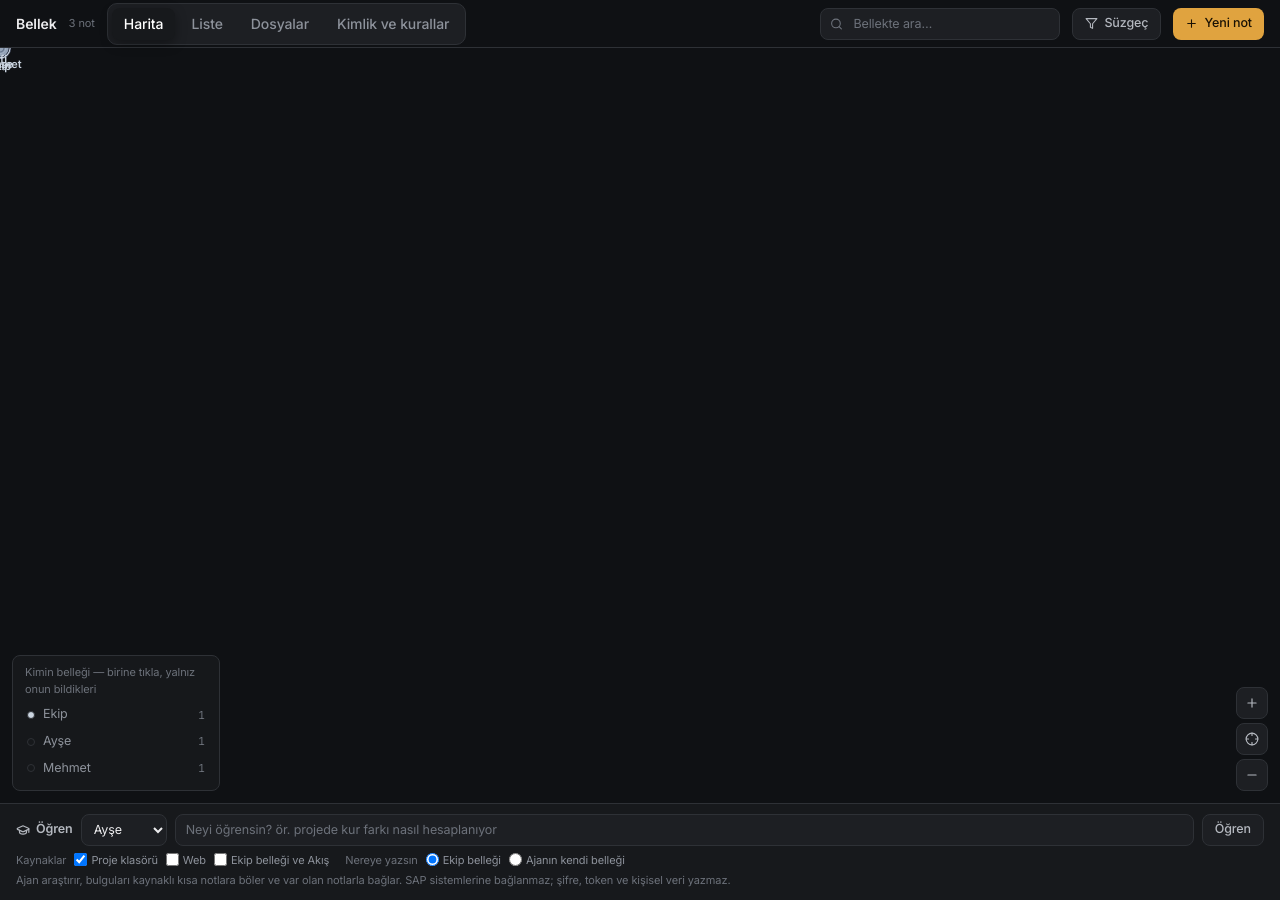
Test: MemoryBrain — harita › arama: sonuç kutusu, sayı, tık notu açar
The width and height of the screenshot is (1280, 900).
Type "onay" into the search field named "Notlarda ara" at (940, 24), box left=820, top=8, right=1060, bottom=40
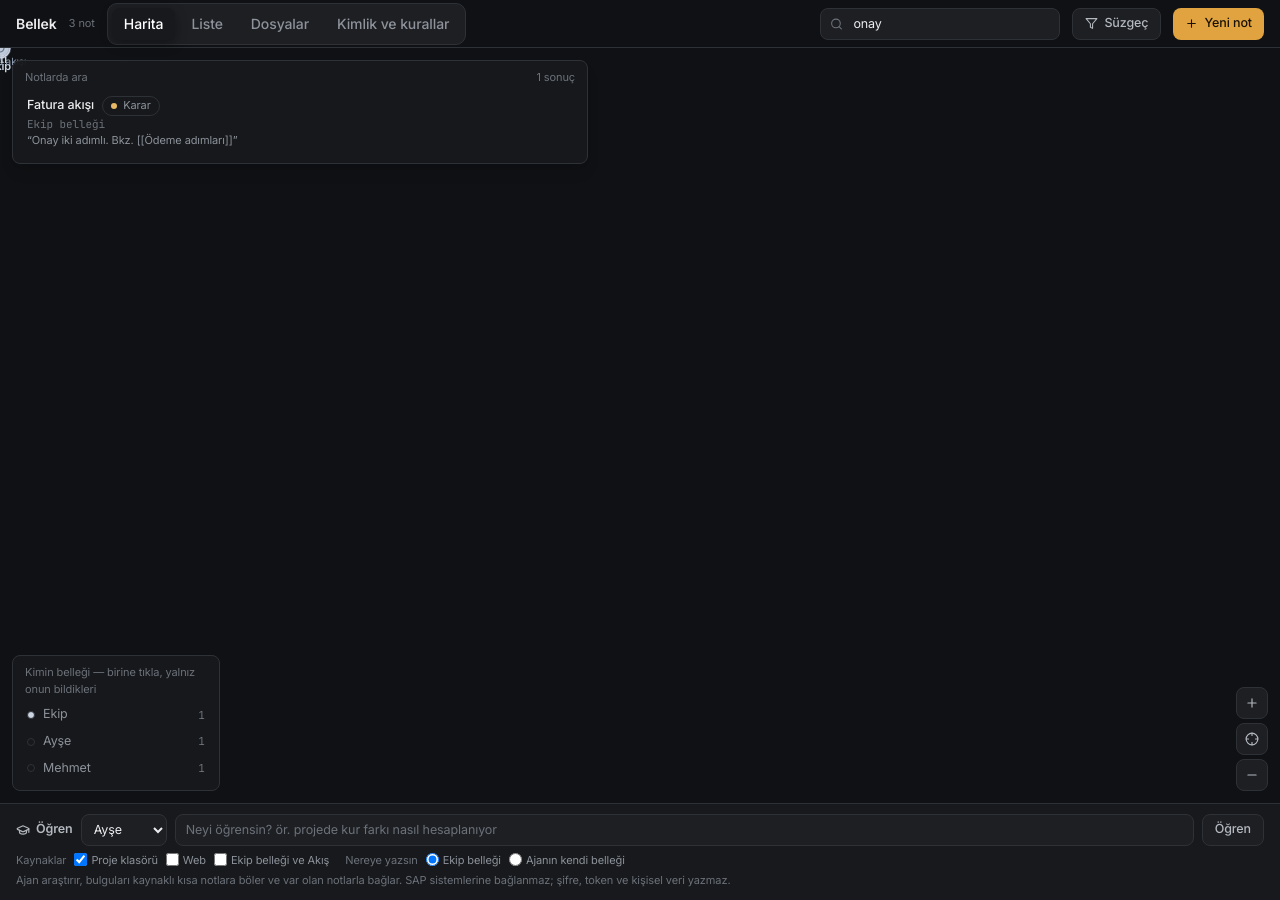
Check: the element "Notlarda ara" shows "1 sonuç", box left=536, top=70, right=575, bottom=84
Click the button "Fatura akışı" at (61, 105), box left=21, top=90, right=579, bottom=154
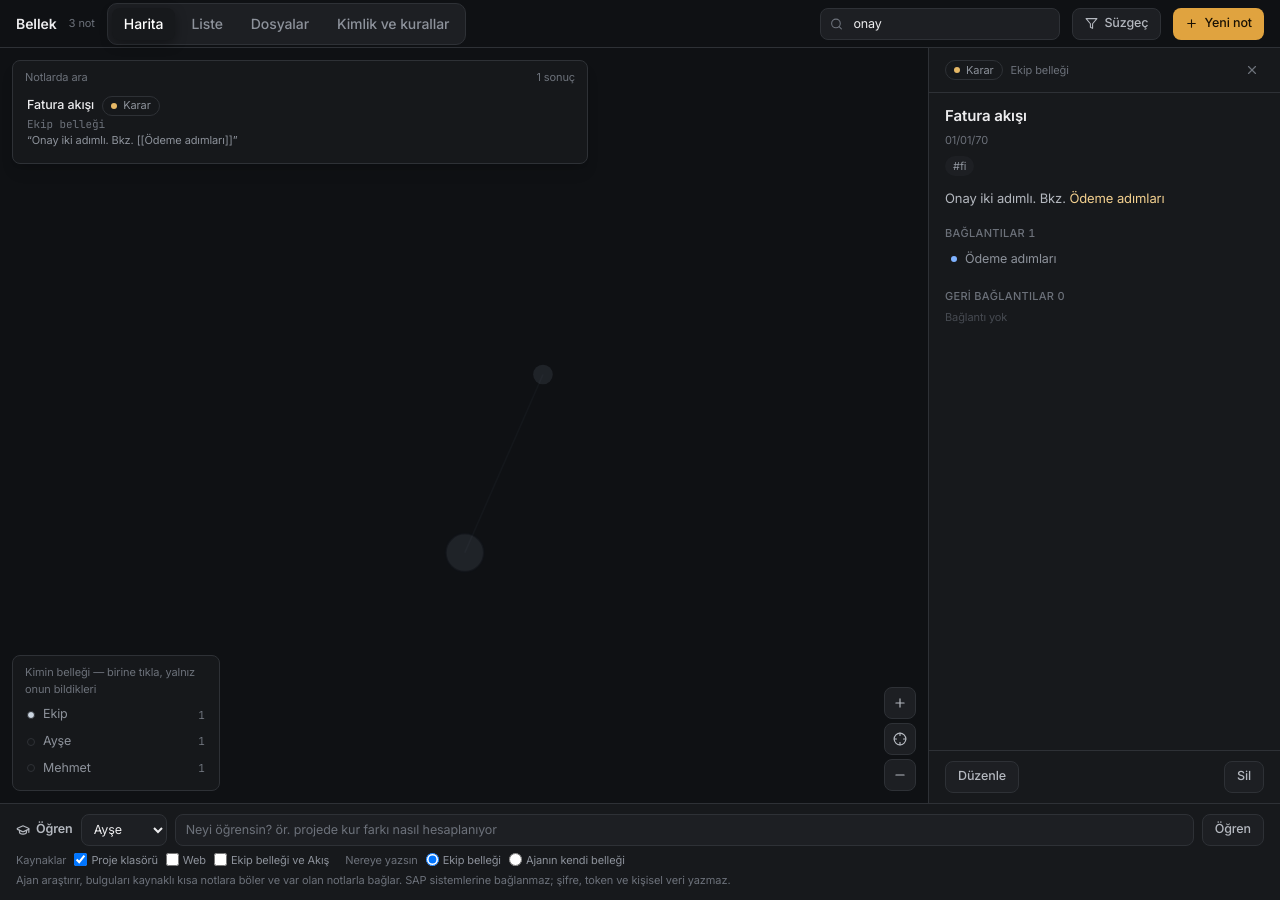
Check: the element that starts with "Karar" shows "Fatura akışı", box left=945, top=106, right=1027, bottom=125
